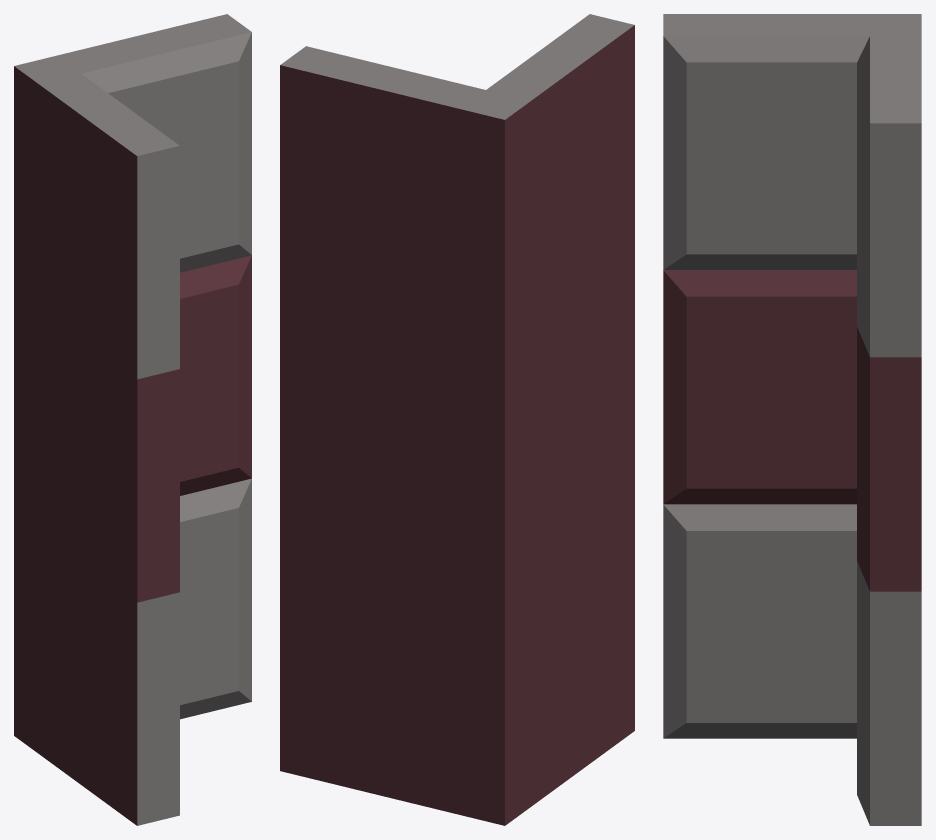
Rendered from scifi-scifi-wall-corner-stripe.glb.
3 renders of one model, left to right at view 1: azimuth 30°, elevation 25°; view 2: azimuth 150°, elevation 25°; view 3: azimuth 270°, elevation 25°, orthographic. The views are drawn at different scales.
Visible parts, largest first — view 1: scifi-wall-corner-stripe; view 2: scifi-wall-corner-stripe; view 3: scifi-wall-corner-stripe.
Part boxes in pixels (<box>): scifi-wall-corner-stripe: <box>14,14,251,825</box>; scifi-wall-corner-stripe: <box>280,14,634,825</box>; scifi-wall-corner-stripe: <box>663,14,921,825</box>.
Bounding box in the file's own units: 1 × 3 × 1.
